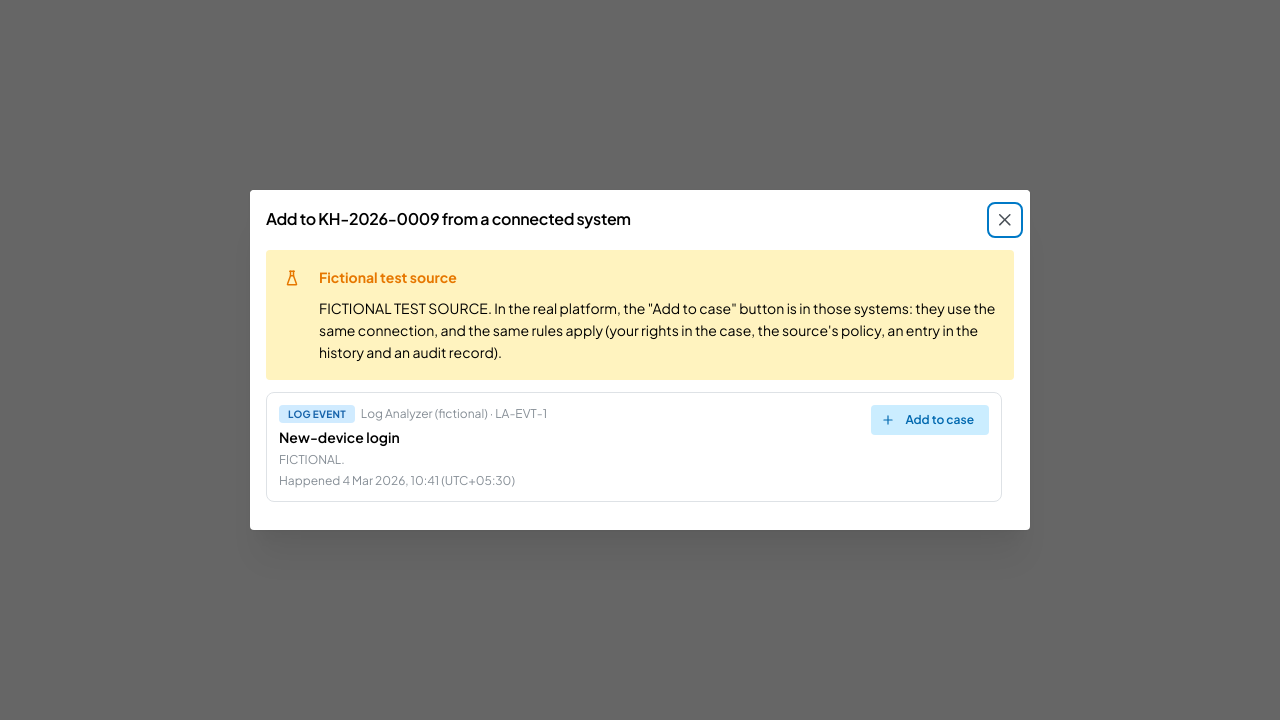
Test: AddFromSourceDialog › adds a fictional finding straight into the case
The width and height of the screenshot is (1280, 720).
Click the button with aria-label "Add LA-EVT-1 to the case".
click(930, 420)  # box left=871, top=405, right=989, bottom=435
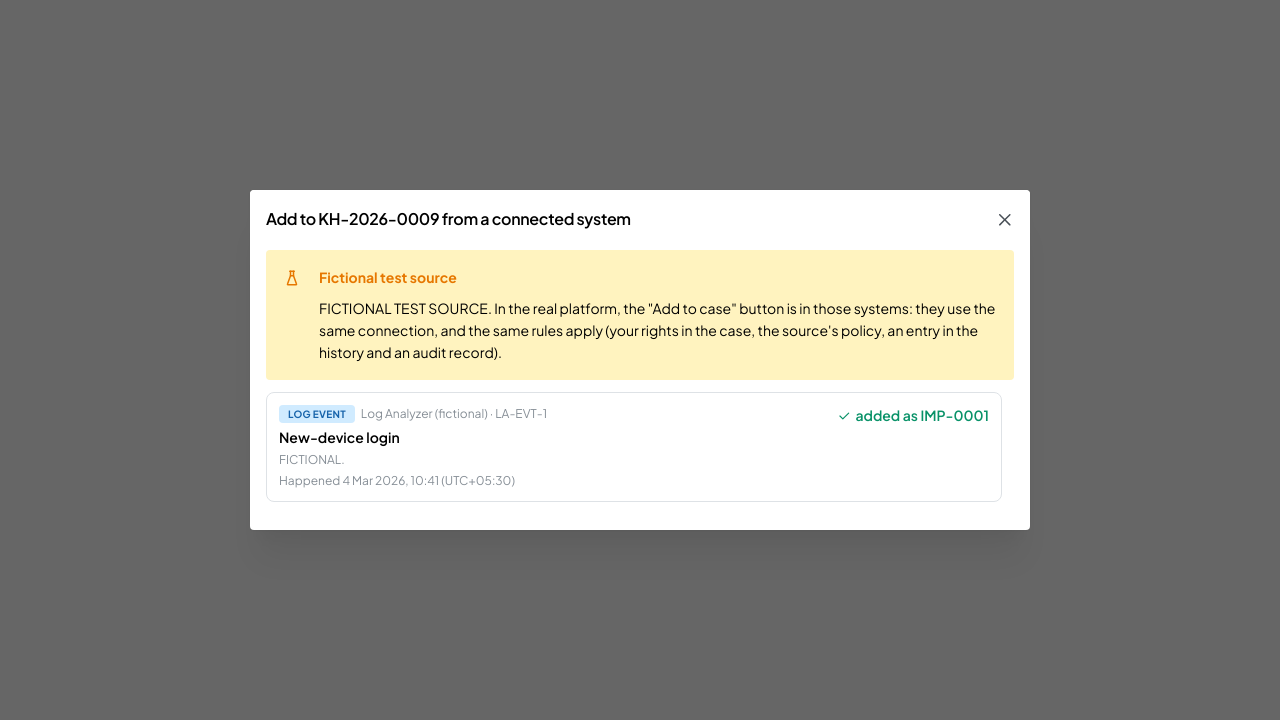
expect the text "added as IMP-0001" is shown: met, box left=855, top=405, right=989, bottom=426
